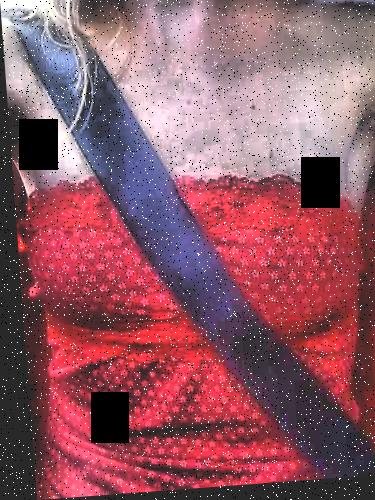seatbelt: (19, 2, 318, 424)
